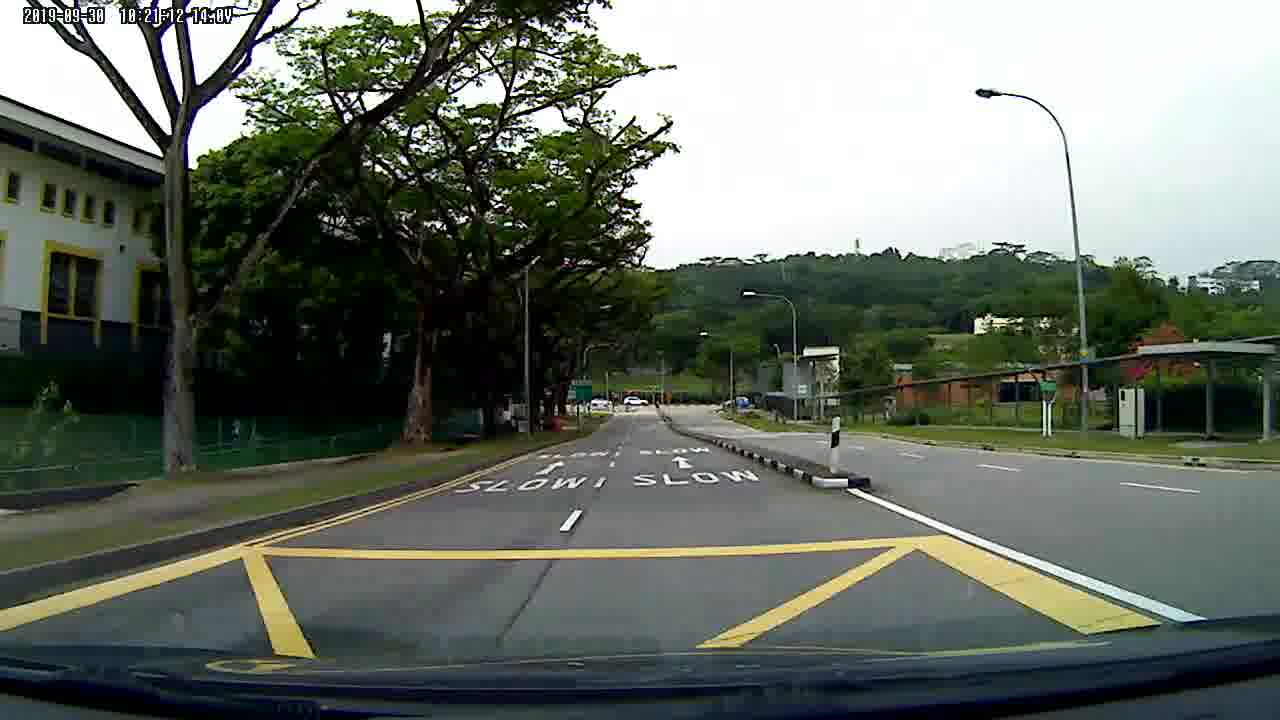car: (624, 394, 648, 408)
